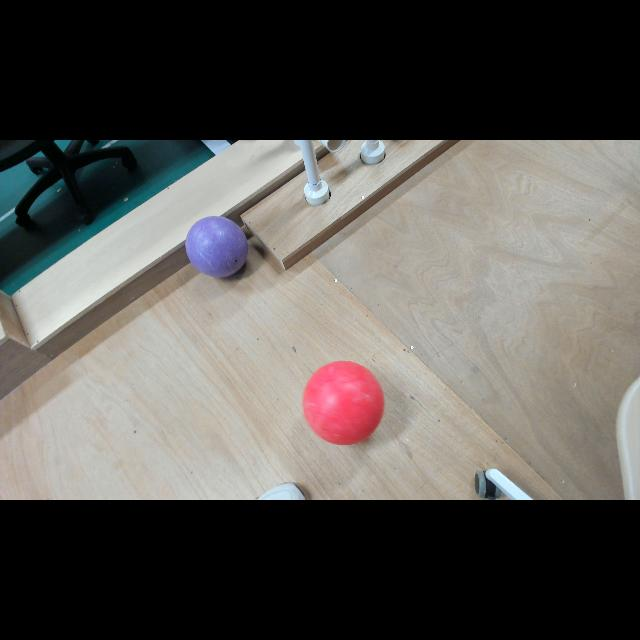P: (184, 216, 250, 278)
R: (302, 358, 386, 448)
